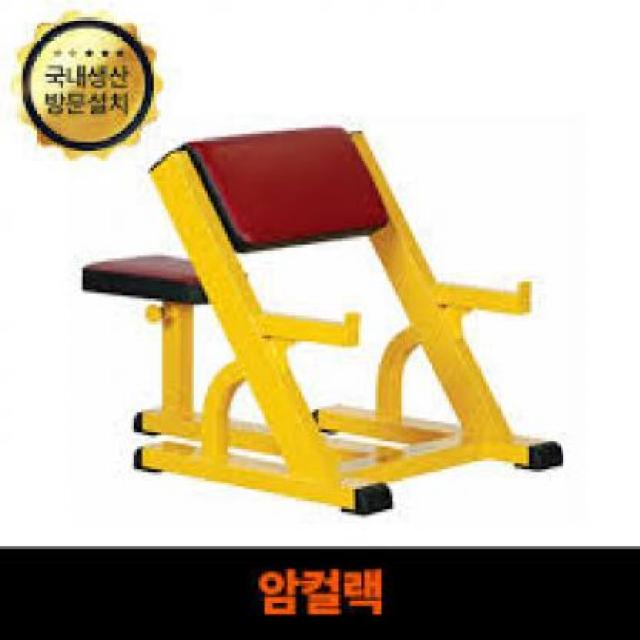arm curl machine: (128, 127, 564, 516)
